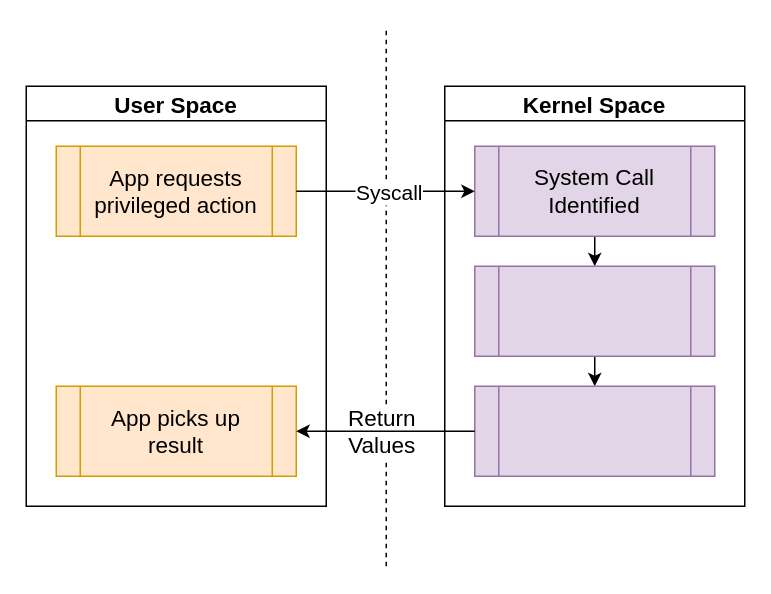
This 771x594 diagram has some shape labels left out. Here are the shapes that lost their labels. From the top down, the centre of each, then its label:
At pixel 594 310: "Kernel fulfils system call".
At pixel 594 430: "Return values prepared".
